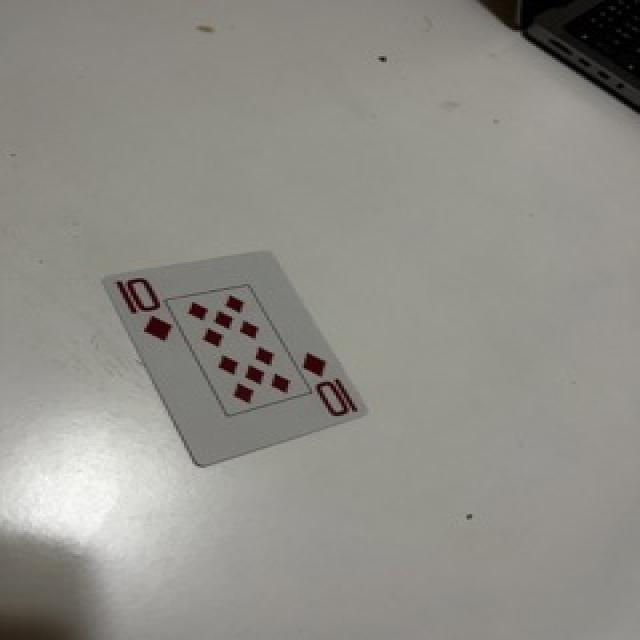10 of diamonds: (105, 252, 365, 465)
